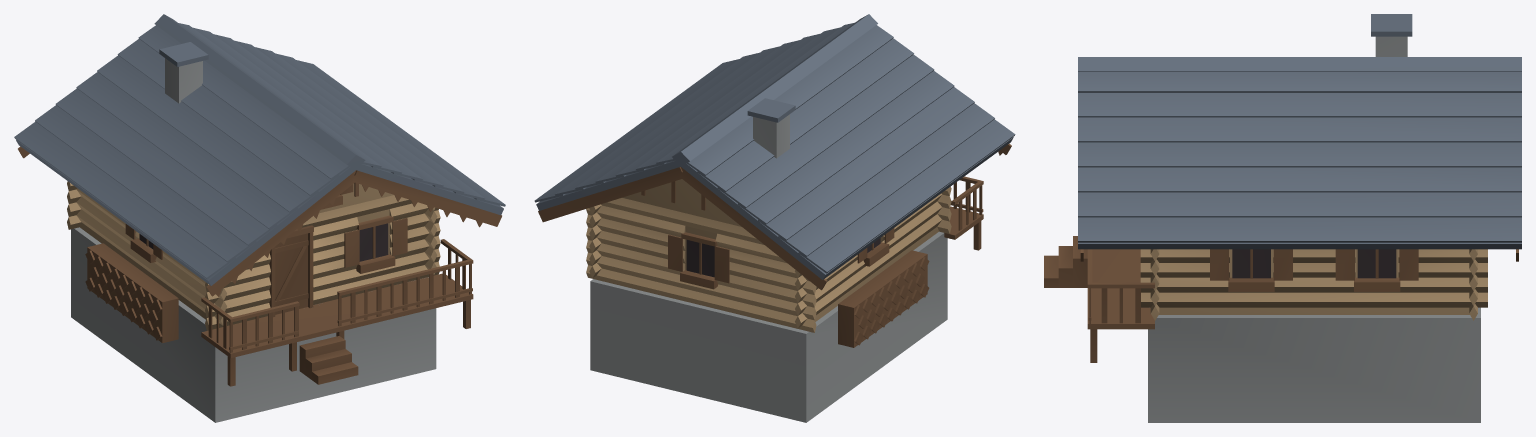
Rendered from house_5.glb.
3 views of the same model, side by side, from view 1: azimuth 30°, elevation 25°; view 2: azimuth 150°, elevation 25°; view 3: azimuth 270°, elevation 25° (orthographic). The views are drawn at different scales.
Visible parts, largest first — view 1: house_5; view 2: house_5; view 3: house_5.
Part boxes in pixels (box(x1,y1,x2,y2)): house_5: box(14, 14, 505, 422); house_5: box(534, 14, 1015, 422); house_5: box(1044, 14, 1521, 422).
Size of the model in its own units: 8.26 by 7.26 by 9.9.
